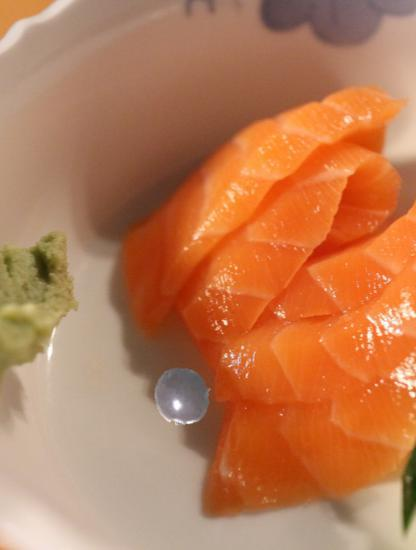Passion: (153, 367, 212, 426)
